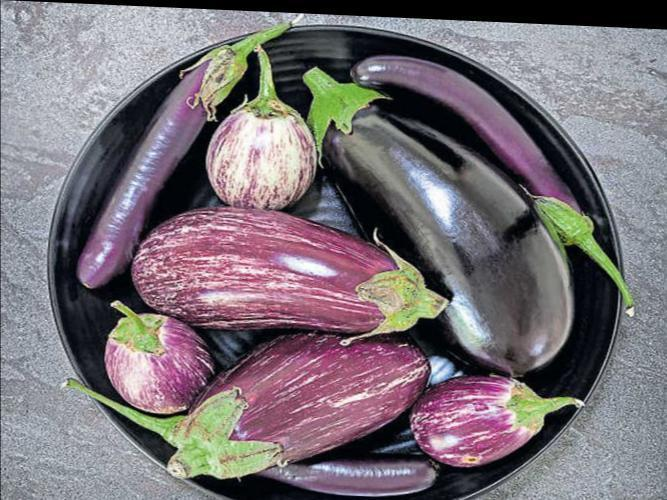eggplant: (170, 307, 421, 492), (122, 211, 451, 326), (408, 353, 568, 464), (199, 70, 308, 209), (98, 310, 225, 412)
